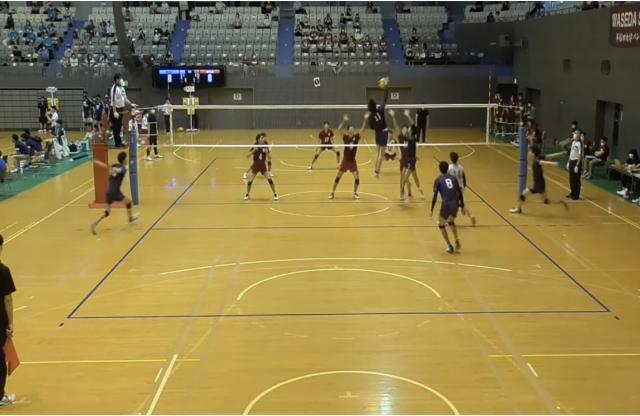spike: (364, 73, 401, 186)
